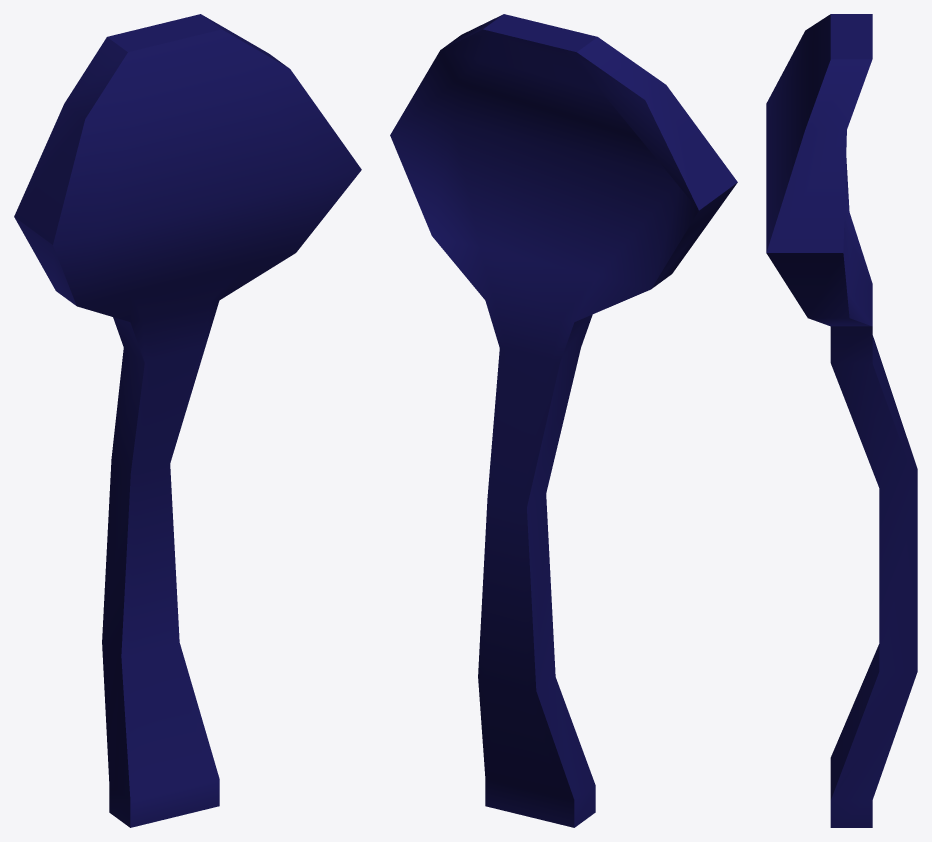
The model's file is Spoon.obj.
3 renders of one model, left to right at view 1: azimuth 30°, elevation 25°; view 2: azimuth 150°, elevation 25°; view 3: azimuth 270°, elevation 25°, orthographic.
Visible parts, largest first — view 1: pCube2; view 2: pCube2; view 3: pCube2.
Boxes of the visible parts, bbox=[...] form: pCube2: bbox=[14, 14, 361, 827]; pCube2: bbox=[390, 14, 737, 827]; pCube2: bbox=[766, 14, 917, 827].
Size of the model in its own units: 2.79 by 6.69 by 1.19.
